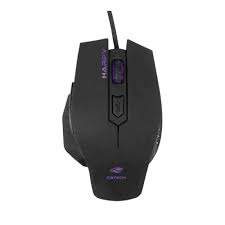mouse: (54, 33, 166, 207)
